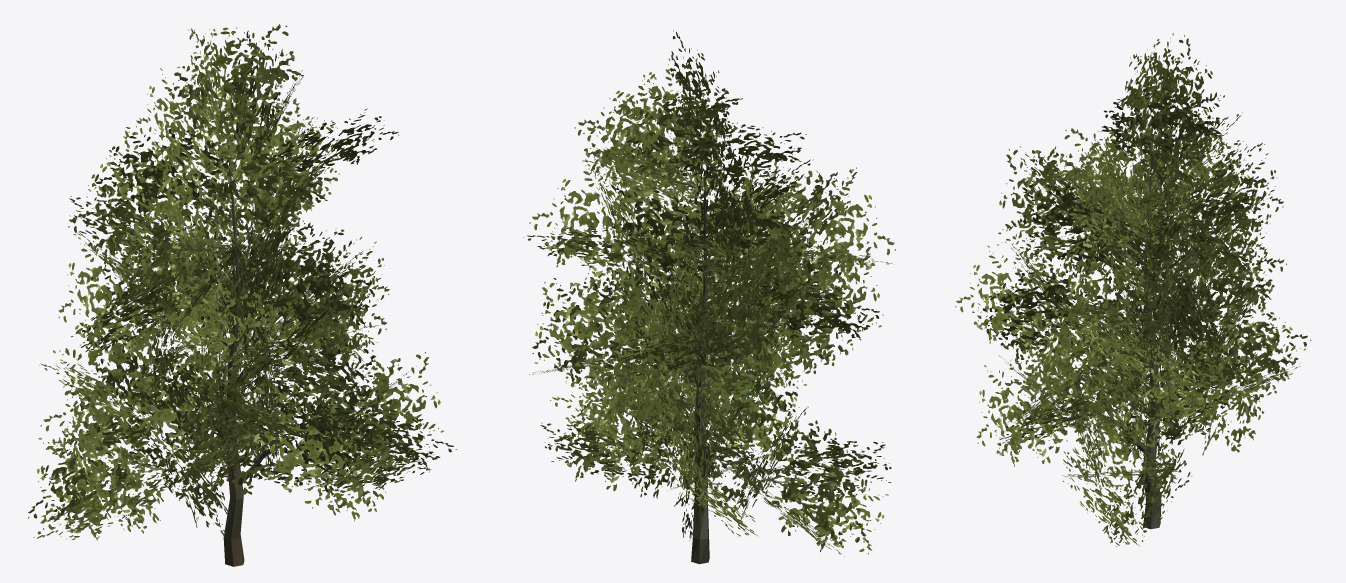
Rendered from laubbaum_06.glb.
The picture shows the model from 3 angles, left to right: view 1: azimuth 30°, elevation 25°; view 2: azimuth 150°, elevation 25°; view 3: azimuth 270°, elevation 25°; orthographic projection. The views are drawn at different scales.
Visible parts, largest first — view 1: laub, rinde; view 2: laub, rinde; view 3: laub, rinde.
Boxes of the visible parts, bbox=[...] form: laub: bbox=[28, 24, 456, 540]; rinde: bbox=[181, 155, 296, 566]; laub: bbox=[523, 30, 895, 556]; rinde: bbox=[644, 170, 759, 564]; laub: bbox=[955, 33, 1311, 546]; rinde: bbox=[1086, 152, 1190, 529].
Bounding box in the file's own units: 6.28 × 8.4 × 6.
Materials: 2 (1 with a texture image).
